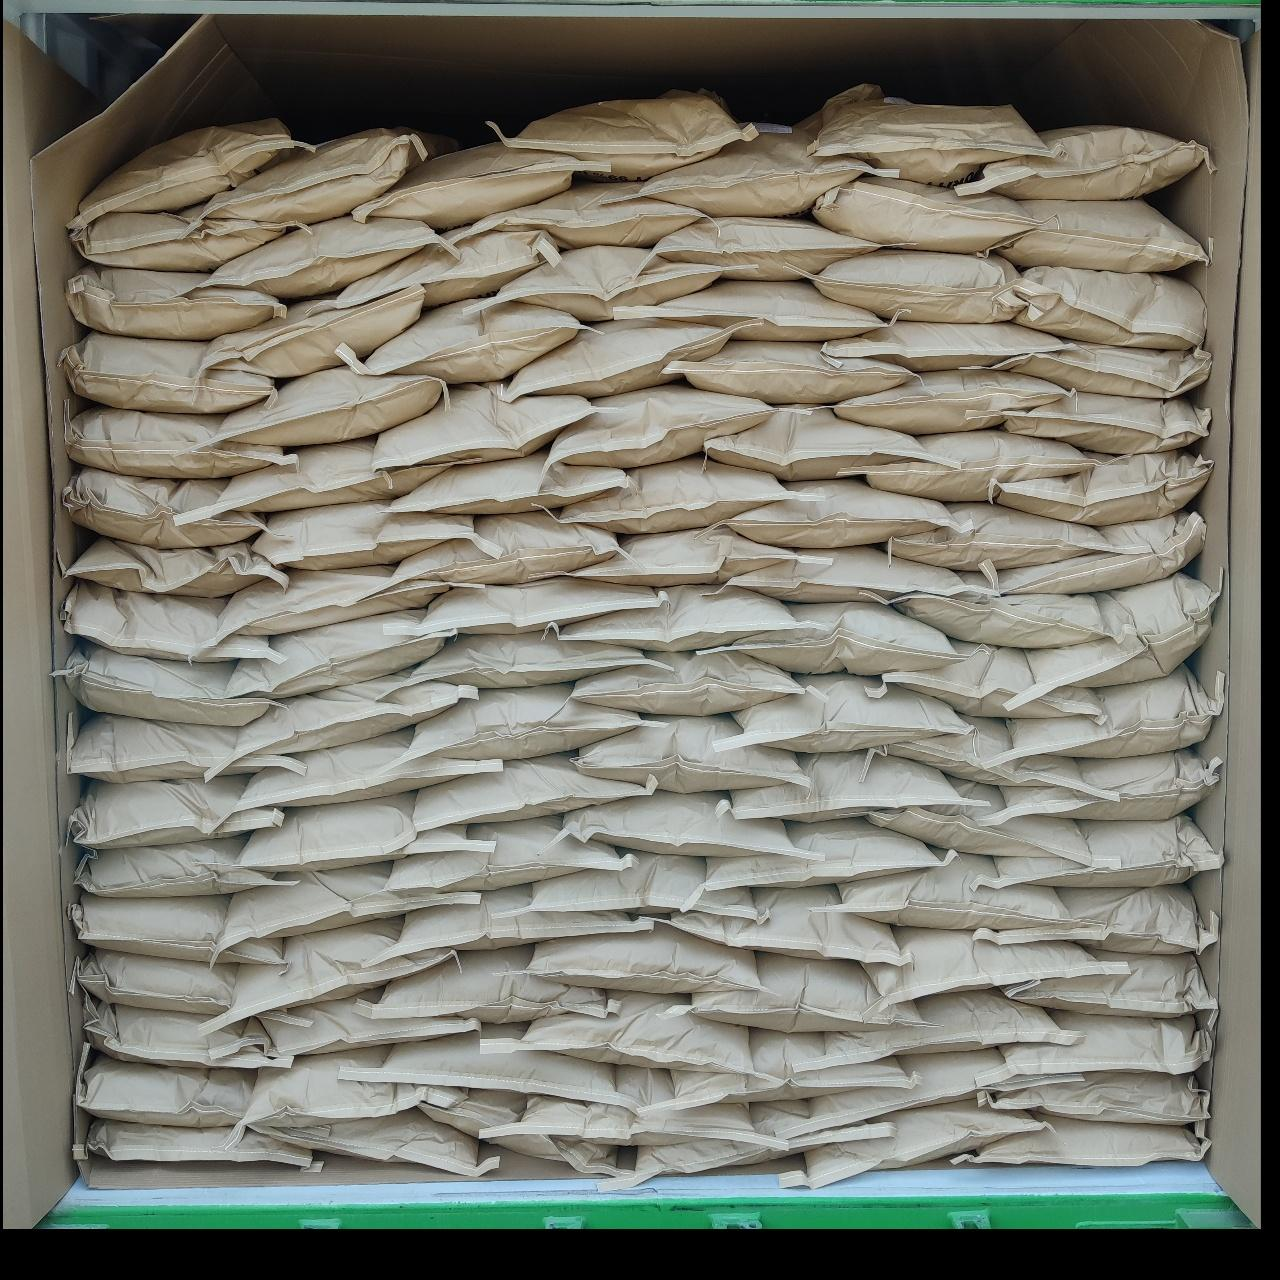sack: (1001, 570, 1224, 712), (186, 127, 458, 237), (199, 919, 453, 1035), (777, 1048, 1084, 1142), (205, 676, 477, 780), (67, 118, 314, 230), (368, 685, 664, 777), (486, 90, 790, 179), (482, 993, 780, 1083), (222, 721, 498, 818), (338, 1022, 635, 1112), (598, 1101, 895, 1191), (479, 1065, 787, 1151), (174, 431, 449, 525), (862, 928, 1135, 1022), (680, 818, 955, 910), (638, 1028, 915, 1118), (225, 1046, 464, 1149), (217, 862, 480, 955), (791, 990, 1077, 1074), (985, 663, 1224, 763), (630, 128, 899, 216), (778, 1099, 1043, 1188), (193, 567, 451, 657), (363, 887, 652, 966), (352, 143, 610, 230), (546, 791, 824, 871), (825, 852, 1091, 931), (200, 217, 459, 298), (861, 719, 1119, 800), (200, 285, 424, 378), (235, 792, 495, 872), (501, 318, 751, 401), (809, 98, 1050, 184), (665, 952, 923, 1032), (867, 638, 1106, 724), (381, 509, 628, 592), (353, 946, 619, 1023), (228, 608, 455, 698), (384, 816, 632, 898), (321, 223, 560, 308), (335, 301, 582, 383), (656, 885, 906, 966), (865, 779, 1094, 867), (716, 750, 990, 822), (714, 675, 970, 752), (546, 384, 773, 470), (548, 455, 800, 532), (695, 602, 959, 675), (836, 429, 1107, 500), (972, 749, 1221, 826), (466, 246, 720, 321), (413, 756, 657, 834), (955, 126, 1215, 199), (55, 642, 279, 726), (704, 406, 958, 480), (970, 815, 1222, 889), (980, 510, 1204, 593), (419, 1090, 632, 1177), (373, 383, 591, 468), (542, 586, 827, 650), (61, 580, 282, 662), (975, 1011, 1209, 1088), (859, 582, 1135, 647), (887, 502, 1150, 570), (576, 716, 809, 792), (383, 576, 667, 638), (82, 987, 294, 1070), (216, 368, 441, 446), (60, 332, 275, 413), (245, 1108, 497, 1177), (445, 182, 708, 248), (724, 479, 972, 548), (992, 449, 1212, 526), (251, 502, 500, 570), (973, 885, 1218, 954), (529, 920, 760, 993), (812, 178, 1036, 253), (65, 406, 297, 478), (813, 249, 1041, 322), (559, 525, 831, 586), (702, 546, 998, 602), (62, 467, 265, 548), (531, 853, 768, 922), (67, 714, 307, 782), (400, 627, 672, 687), (665, 340, 916, 404), (67, 266, 285, 339), (71, 205, 311, 271), (613, 281, 881, 340), (571, 647, 802, 715), (1016, 266, 1203, 350), (69, 891, 285, 963), (67, 776, 282, 848), (390, 452, 637, 514), (75, 1043, 257, 1127), (835, 369, 1068, 434), (998, 200, 1207, 272), (639, 217, 880, 279), (255, 990, 478, 1055), (74, 836, 297, 898), (62, 537, 291, 597), (1006, 954, 1217, 1017), (72, 1119, 322, 1172), (821, 321, 1076, 372), (949, 1116, 1209, 1166), (1003, 390, 1209, 453), (977, 1072, 1209, 1124), (71, 947, 241, 1016), (998, 344, 1211, 398), (596, 191, 623, 203), (384, 689, 398, 699), (454, 586, 483, 589), (1102, 860, 1108, 868)
